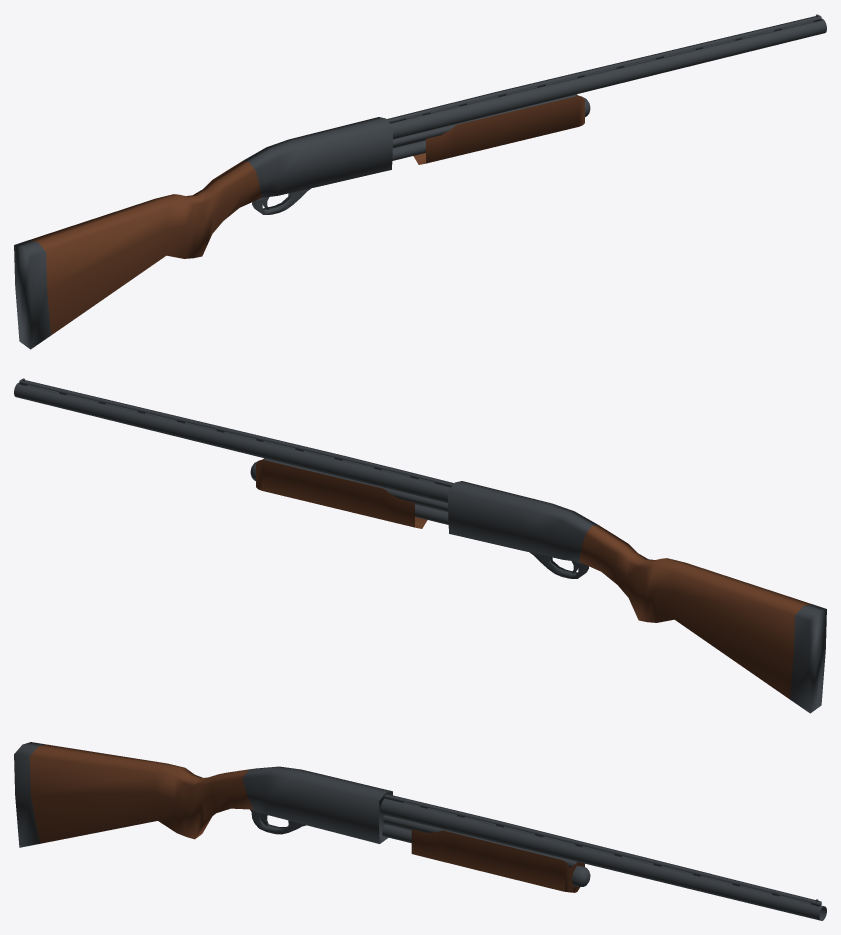
The model's file is remington870.glb.
The picture shows the model from 3 angles, top to bottom: view 1: azimuth 30°, elevation 25°; view 2: azimuth 150°, elevation 25°; view 3: azimuth 330°, elevation 25°; orthographic projection.
Parts seen in each view (by area): view 1: Body, Pump; view 2: Body, Pump; view 3: Body, Pump.
Boxes of the visible parts, x1,y1,x2,y2 form: Body: [14, 14, 826, 349]; Pump: [413, 94, 584, 164]; Body: [14, 378, 826, 713]; Pump: [256, 458, 427, 528]; Body: [14, 742, 826, 920]; Pump: [411, 829, 584, 892].
Bounding box in the file's own units: 0.9 × 0.1493 × 0.0329.
